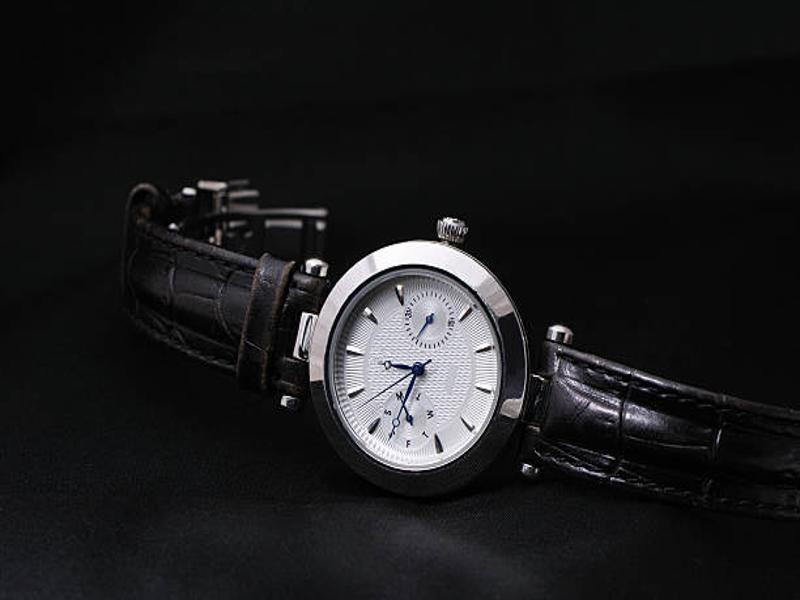watch: (111, 163, 774, 522)
